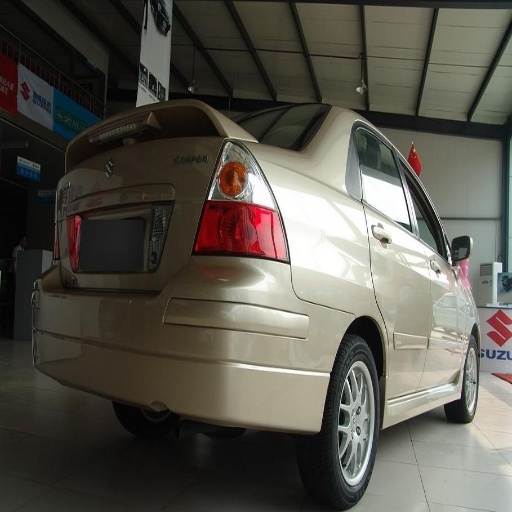back_bumper: (40, 254, 344, 428)
back_right_door: (358, 137, 428, 397)
tailgate: (64, 137, 221, 287)
trunk: (53, 256, 218, 349), (243, 148, 294, 245)
